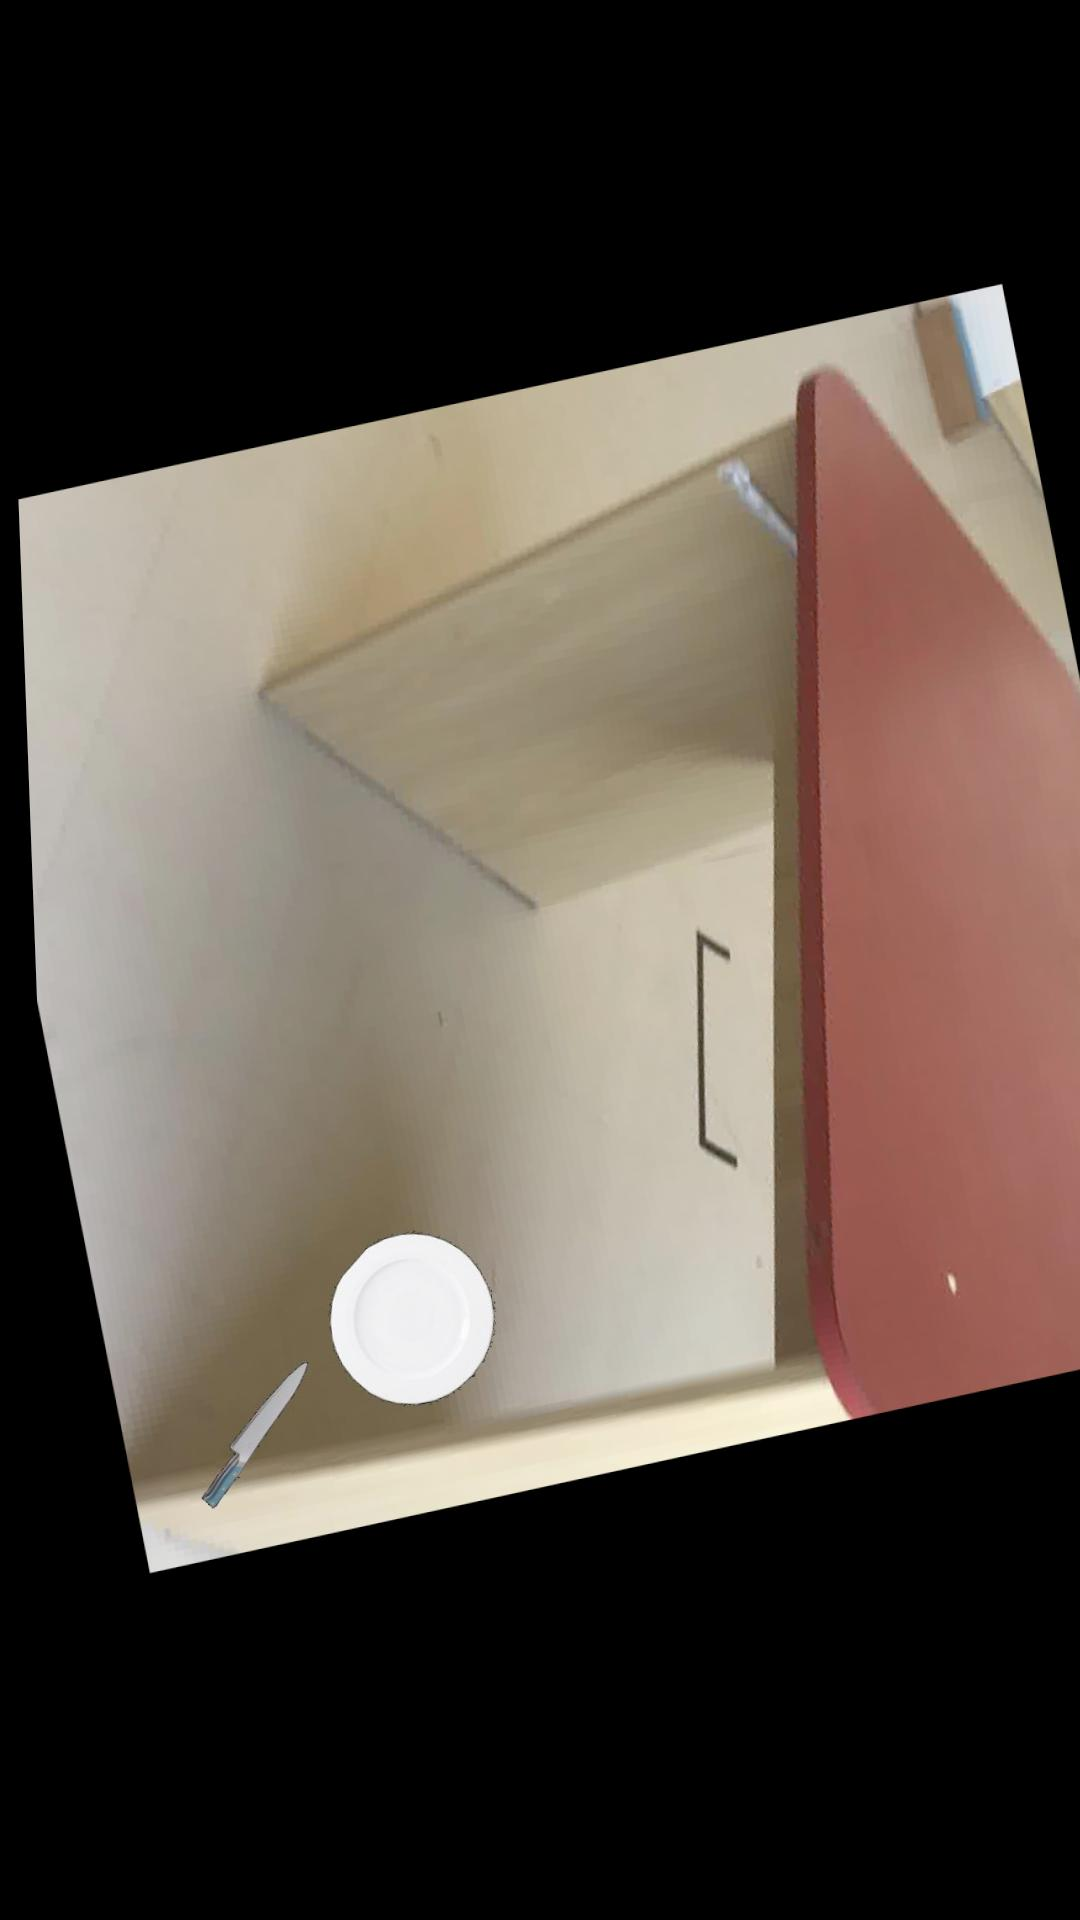knife: (190, 1364, 297, 1509)
plate: (319, 1236, 484, 1407)
